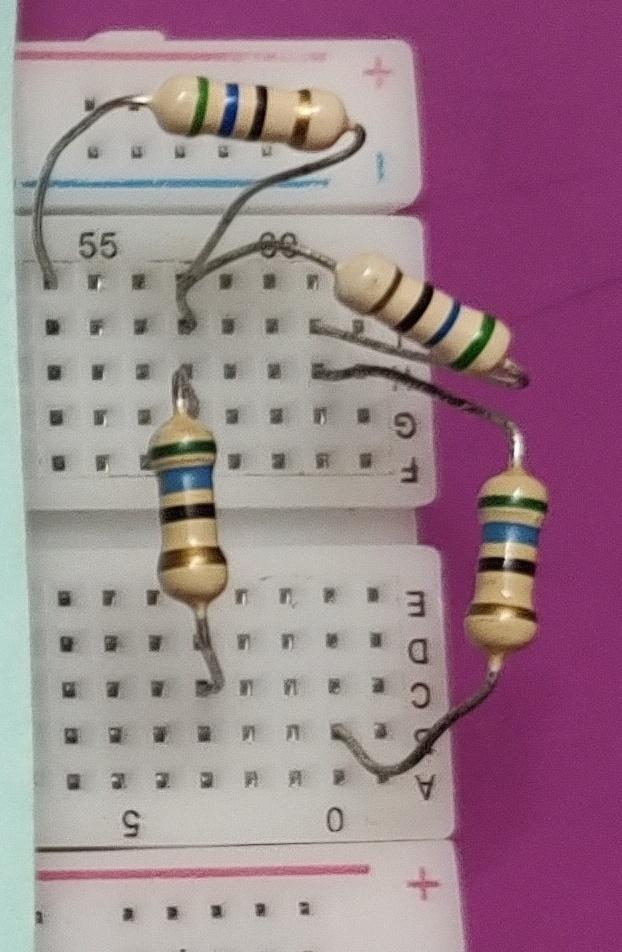resistor: (321, 241, 527, 386), (135, 403, 241, 628), (145, 61, 355, 166), (455, 455, 551, 667)
